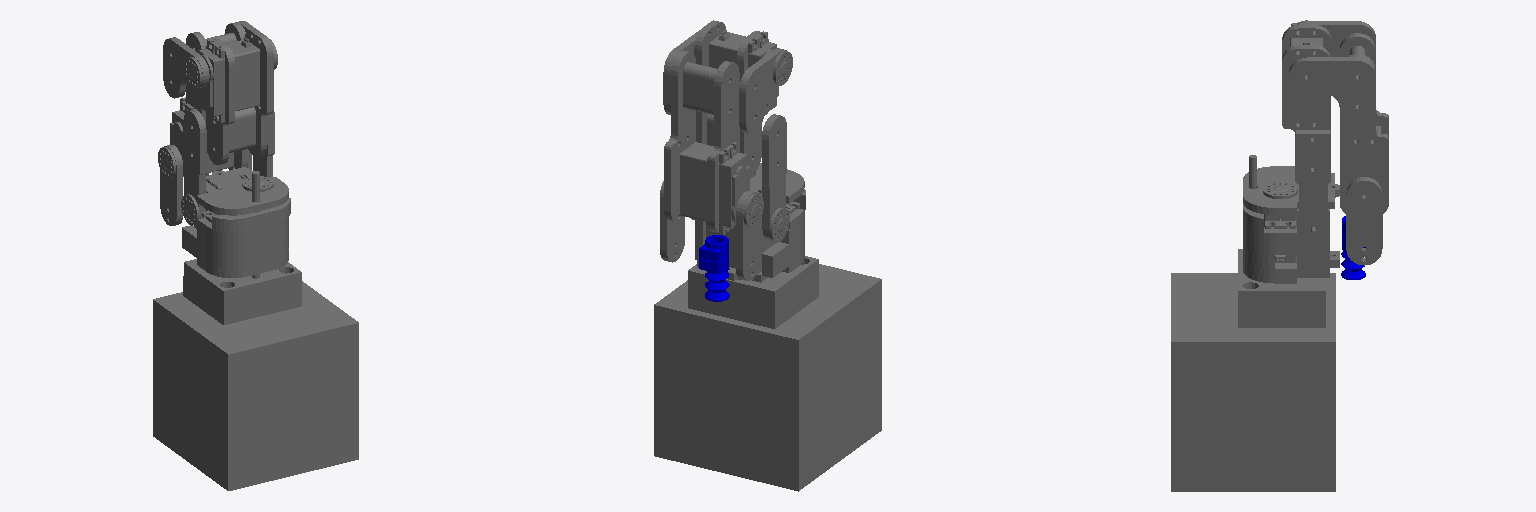
URDF robot description (arm_hrrr):
<?xml version="1.0" ?>
<!-- =================================================================================== -->
<!-- |    This document was autogenerated by xacro from arm_hrrr.xacro                 | -->
<!-- |    EDITING THIS FILE BY HAND IS NOT RECOMMENDED                                 | -->
<!-- =================================================================================== -->
<robot name="arm_hrrr" xmlns:xacro="http://ros.org/wiki/xacro">
  <!--xacro:property name="path2Model" value="package://testbot_description/model" /-->
  <!--robot name="armHRRR"-->
  <!-- ______ links _____ -->
  <!-- ROS base_link to arm world coordinates trnsform -->
  <link name="base_link">
    <visual>
      <origin rpy="0 0 0" xyz="0 0 0.05"/>
      <geometry>
        <box size="0.1 0.1 0.1"/>
      </geometry>
      <material name="Grey"/>
    </visual>
    <collision>
      <origin rpy="0 0 0" xyz="0 0 0.05"/>
      <geometry>
        <box size="0.1 0.1 0.1"/>
      </geometry>
    </collision>
  </link>
  <link name="_L0">
    <visual>
      <origin rpy="0 0 0" xyz="0 0 0"/>
      <geometry>
        <mesh filename="package://arm_hrrr_model/meshes/L0.STL"/>
      </geometry>
      <material name="Grey"/>
    </visual>
    <collision>
      <origin rpy="0 0 0" xyz="0 0 0"/>
      <geometry>
        <mesh filename="package://arm_hrrr_model/meshes/L0.STL"/>
      </geometry>
    </collision>
    <inertial>
      <origin rpy="0 0 0" xyz="1.1345E-16 -0.013352 0.017446"/>
      <mass value="0.07757"/>
      <inertia ixx="2.6624E-05" ixy="8.3213E-21" ixz="6.6331E-21" iyy="4.1325E-05" iyz="1.2551E-06" izz="3.1336E-05"/>
    </inertial>
  </link>
  <link name="_L1">
    <visual>
      <origin rpy="0 0 0" xyz="0 0 0"/>
      <geometry>
        <mesh filename="package://arm_hrrr_model/meshes/L1.STL"/>
      </geometry>
      <material name="Grey"/>
    </visual>
    <collision>
      <origin rpy="0 0 0" xyz="0 0 0"/>
      <geometry>
        <mesh filename="package://arm_hrrr_model/meshes/L1.STL"/>
      </geometry>
    </collision>
    <inertial>
      <origin rpy="0 0 0" xyz="-0.000652188482918968 0.0205351960403008 0.0250735944101231"/>
      <mass value="0.12726"/>
      <inertia ixx="5.5052684991225E-05" ixy="-1.08478385518745E-06" ixz="1.00389750980177E-06" iyy="5.63745220297769E-05" iyz="3.00857513519924E-07" izz="5.73934780370408E-05"/>
    </inertial>
  </link>
  <link name="_L2">
    <visual>
      <origin rpy="0 0 0" xyz="0 0 0"/>
      <geometry>
        <mesh filename="package://arm_hrrr_model/meshes/L2.STL"/>
      </geometry>
      <material name="Grey"/>
    </visual>
    <collision>
      <origin rpy="0 0 0" xyz="0 0 0"/>
      <geometry>
        <mesh filename="package://arm_hrrr_model/meshes/L2.STL"/>
      </geometry>
    </collision>
    <inertial>
      <origin rpy="0 0 0" xyz="0.0711649776786391 0.00148673503523068 -0.0024225415303807"/>
      <mass value="0.0715177471991291"/>
      <inertia ixx="2.3477639305661E-05" ixy="-1.66762564977195E-06" ixz="-3.54152135672619E-06" iyy="6.64208248542604E-05" iyz="1.34881284045922E-07" izz="8.36014077475221E-05"/>
    </inertial>
  </link>
  <link name="_L3">
    <visual>
      <origin rpy="0 0 0" xyz="0 0 0"/>
      <geometry>
        <mesh filename="package://arm_hrrr_model/meshes/L3.STL"/>
      </geometry>
      <material name="Grey"/>
    </visual>
    <collision>
      <origin rpy="0 0 0" xyz="0 0 0"/>
      <geometry>
        <mesh filename="package://arm_hrrr_model/meshes/L3.STL"/>
      </geometry>
    </collision>
    <inertial>
      <origin rpy="0 0 0" xyz="0.0443605865306002 -0.00229589696194459 0.031243645036507"/>
      <mass value="0.0755630413994574"/>
      <inertia ixx="2.94318237373478E-05" ixy="3.76099873612448E-06" ixz="1.12245038462398E-05" iyy="8.53576932065445E-05" iyz="2.11221731367707E-07" izz="9.92701100131562E-05"/>
    </inertial>
  </link>
  <link name="_L4">
    <visual>
      <origin rpy="0 0 0" xyz="0 0 0"/>
      <geometry>
        <mesh filename="package://arm_hrrr_model/meshes/L4.STL"/>
      </geometry>
      <material name="Grey"/>
    </visual>
    <collision>
      <origin rpy="0 0 0" xyz="0 0 0"/>
      <geometry>
        <mesh filename="package://arm_hrrr_model/meshes/L4.STL"/>
      </geometry>
    </collision>
    <inertial>
      <origin rpy="0 0 0" xyz="0.0177621067869408 -0.00137877579388009 0"/>
      <mass value="0.0147045616164208"/>
      <inertia ixx="8.03850612396533E-06" ixy="1.23133424762755E-07" ixz="8.86897583275476E-22" iyy="2.93912182741925E-06" iyz="-1.45471455660844E-23" izz="1.01319116064202E-05"/>
    </inertial>
  </link>
  <link name="_tool">
    <inertial>
      <origin rpy="0 0 0" xyz="0.0030009631938903 -7.32426842593086E-17 -0.00531092074064319"/>
      <mass value="0.00367938214213686"/>
      <inertia ixx="1.43250300085364E-07" ixy="1.0687385703068E-22" ixz="-3.07881511704918E-08" iyy="4.48135044755976E-07" iyz="-2.89447699129957E-23" izz="4.23540638940663E-07"/>
    </inertial>
    <visual>
      <origin rpy="0 0 0" xyz="0 0 0"/>
      <geometry>
        <mesh filename="package://arm_hrrr_model/meshes/tool.STL"/>
      </geometry>
      <material name="Blue"/>
    </visual>
    <collision>
      <origin rpy="0 0 0" xyz="0 0 0"/>
      <geometry>
        <mesh filename="package://arm_hrrr_model/meshes/tool.STL"/>
      </geometry>
    </collision>
  </link>
  <link name="_endTool">
        </link>
  <!-- _____ joints _____ -->
  <joint name="_base_L0" type="fixed">
    <origin rpy="3.1416 0 0" xyz="0 0 0.1"/>
    <parent link="base_link"/>
    <child link="_L0"/>
  </joint>
  <joint name="_J0" type="revolute">
    <origin rpy="3.1416 0 0" xyz="0 0 -0.03"/>
    <parent link="_L0"/>
    <child link="_L1"/>
    <axis xyz="0 0 1"/>
    <limit effort="10" lower="-1.57" upper="1.57" velocity="4"/>
  </joint>
  <joint name="_J1" type="revolute">
    <origin rpy="1.5708 -1.5708 3.1416" xyz="0 0.0365 0.0358"/>
    <parent link="_L1"/>
    <child link="_L2"/>
    <axis xyz="0 -1 0"/>
    <limit effort="1000" lower="-0.785" upper="2.356" velocity="4"/>
  </joint>
  <joint name="_J2" type="revolute">
    <origin rpy="0 0 3.1416" xyz="0.102 0 -0.004"/>
    <parent link="_L2"/>
    <child link="_L3"/>
    <axis xyz="0 1 0"/>
    <limit effort="1000" lower="-3.14" upper="0" velocity="4"/>
  </joint>
  <joint name="_J3" type="revolute">
    <origin rpy="0 0 0" xyz="0.080 0 0.035"/>
    <parent link="_L3"/>
    <child link="_L4"/>
    <axis xyz="0 1 0"/>
    <limit effort="1000" lower="-2.356" upper="0.785" velocity="4"/>
  </joint>
  <joint name="_JTl" type="fixed">
    <origin rpy="0 0 0" xyz="0.042 0 0"/>
    <parent link="_L4"/>
    <child link="_tool"/>
  </joint>
  <joint name="_JEndTl" type="fixed">
    <origin rpy="0 0 0" xyz="0.03 0 -0.005"/>
    <parent link="_tool"/>
    <child link="_endTool"/>
  </joint>
  <material name="Green">
    <color rgba="0 0.9 0 1"/>
  </material>
  <material name="Red">
    <color rgba="0.9 0 0 1"/>
  </material>
  <material name="Blue">
    <color rgba="0 0 0.9 1"/>
  </material>
  <material name="Yellow">
    <color rgba="0.9 0.9 0 1"/>
  </material>
  <material name="Grey">
    <color rgba="0.5 0.5 0.5 1"/>
  </material>
</robot>

--- Render facts (derived) ---
The picture shows the robot from 3 angles, left to right: view 1: azimuth 30°, elevation 25°; view 2: azimuth 150°, elevation 25°; view 3: azimuth 270°, elevation 25°; orthographic projection.
Model arm_hrrr with 8 links and 7 joints (4 revolute, 3 fixed), rooted at base_link, posed every joint at zero.
Visible links, largest first — view 1: base_link, _L2, _L1, _L0, _L3, _L4; view 2: base_link, _L3, _L2, _L0, _L1, _L4, _tool; view 3: base_link, _L3, _L1, _L2, _L0, _L4, _tool.
Link boxes in pixels (x1,y1,x2,y2): base_link: (153,281,358,490); _L2: (183,29,274,218); _L1: (181,167,290,277); _L0: (183,171,301,324); _L3: (158,21,277,177); _L4: (160,145,251,225); base_link: (654,264,881,491); _L3: (663,30,786,234); _L2: (691,20,792,239); _L0: (688,256,818,328); _L1: (695,163,805,282); _L4: (660,181,760,280); _tool: (699,235,729,301); base_link: (1171,273,1335,491); _L3: (1289,21,1388,213); _L1: (1243,166,1339,283); _L2: (1282,20,1330,242); _L0: (1238,155,1325,327); _L4: (1346,177,1382,265); _tool: (1341,216,1365,279).
Bounding box of the posed robot: 0.1 × 0.1325 × 0.2843 m (x, y, z).
6 mesh visuals loaded from 6 distinct referenced files (6 binary STL).